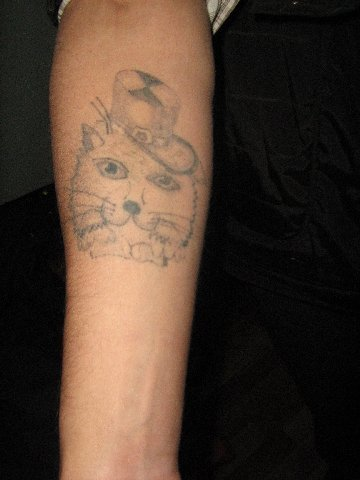tatu8_kot: (62, 63, 202, 272)
